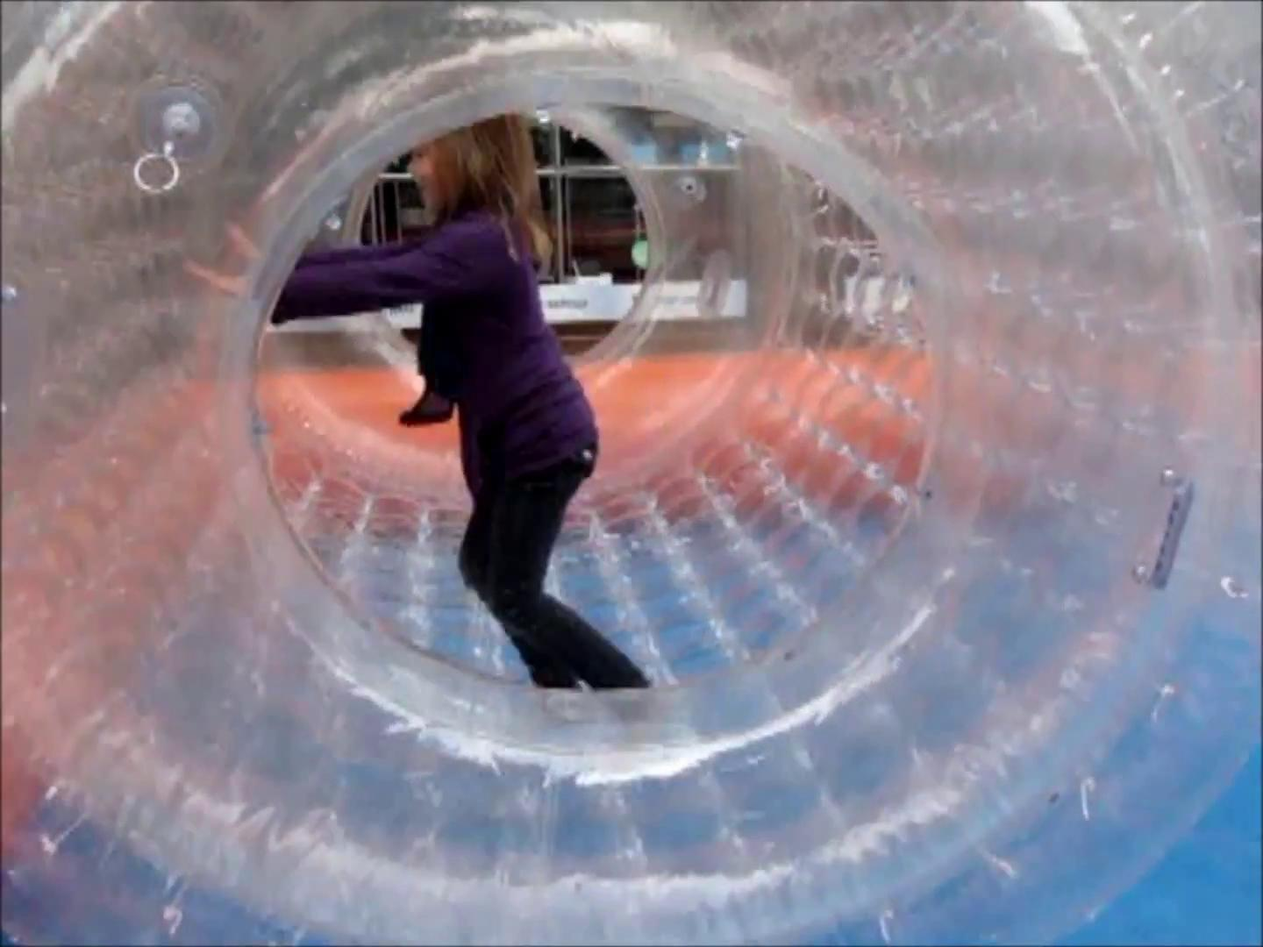victim: (173, 81, 680, 761)
